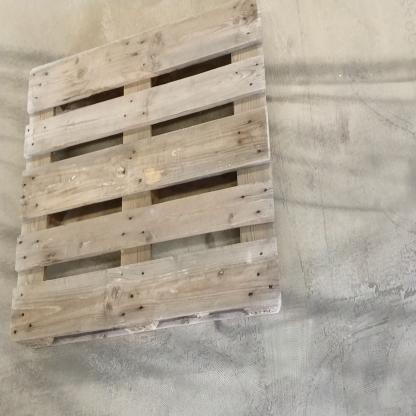BoxFace: (5, 0, 287, 361)
